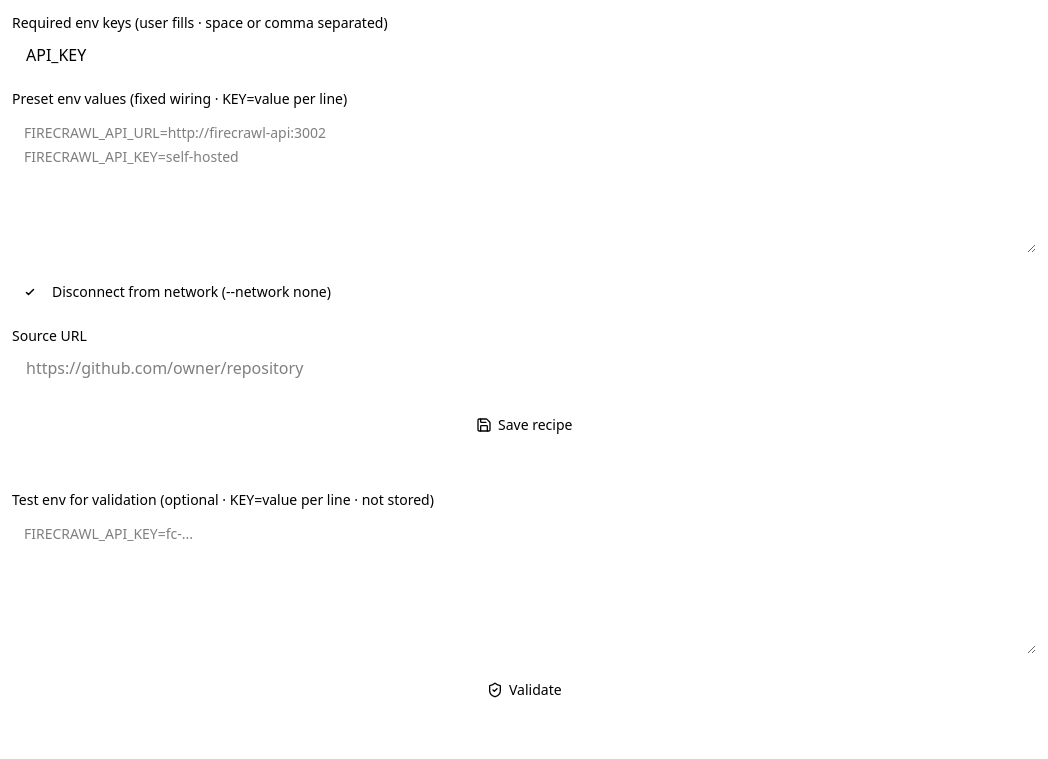
Test case: recipe validation freshness › invalidates previous validation feedback as soon as a recipe changes, then permits validation after a successful save
(page scrolled)
Step 1. Click the button "Validate" → x=524, y=691, box [12,671,1036,711]
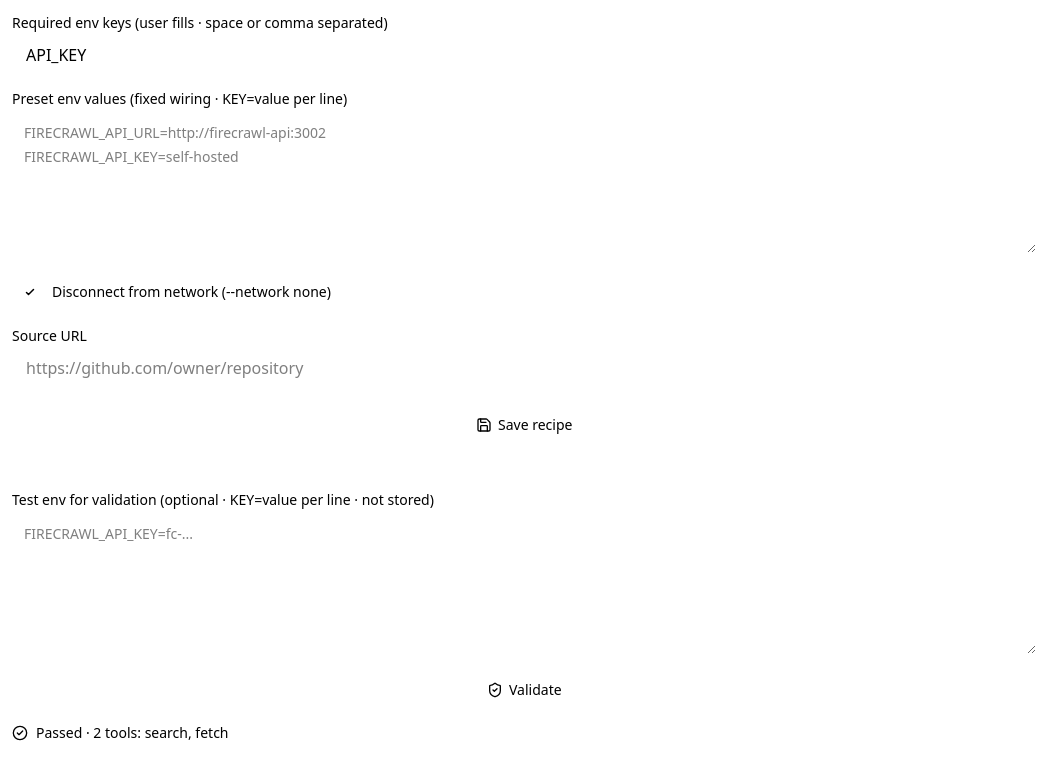
Expected: the text "Passed · 2 tools: search, fetch" is shown, [36,723,228,743]
Step 2. Type "https://github.com/acme/changed" into the field labelled "Source URL" → x=524, y=368, box [12,346,1036,390]
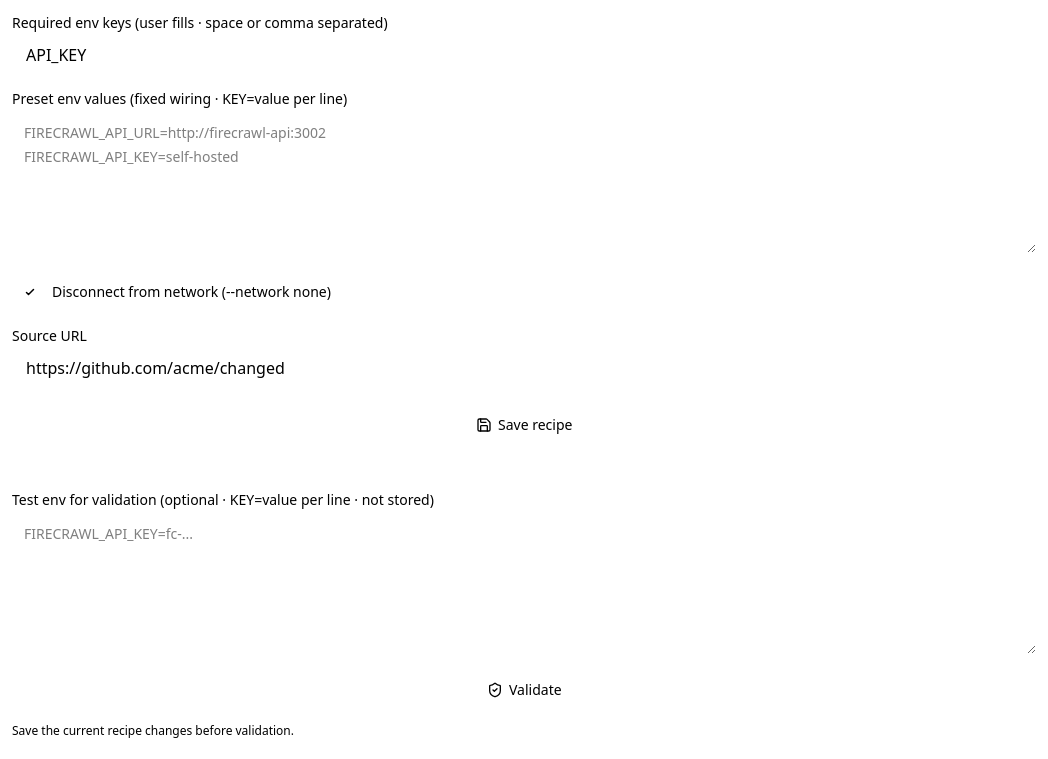
Expected: the button "Validate" is disabled, [12,671,1036,711]
Expected: the text "search, fetch" is gone
Step 3. Click the button "Save recipe" → x=524, y=426, box [12,406,1036,446]
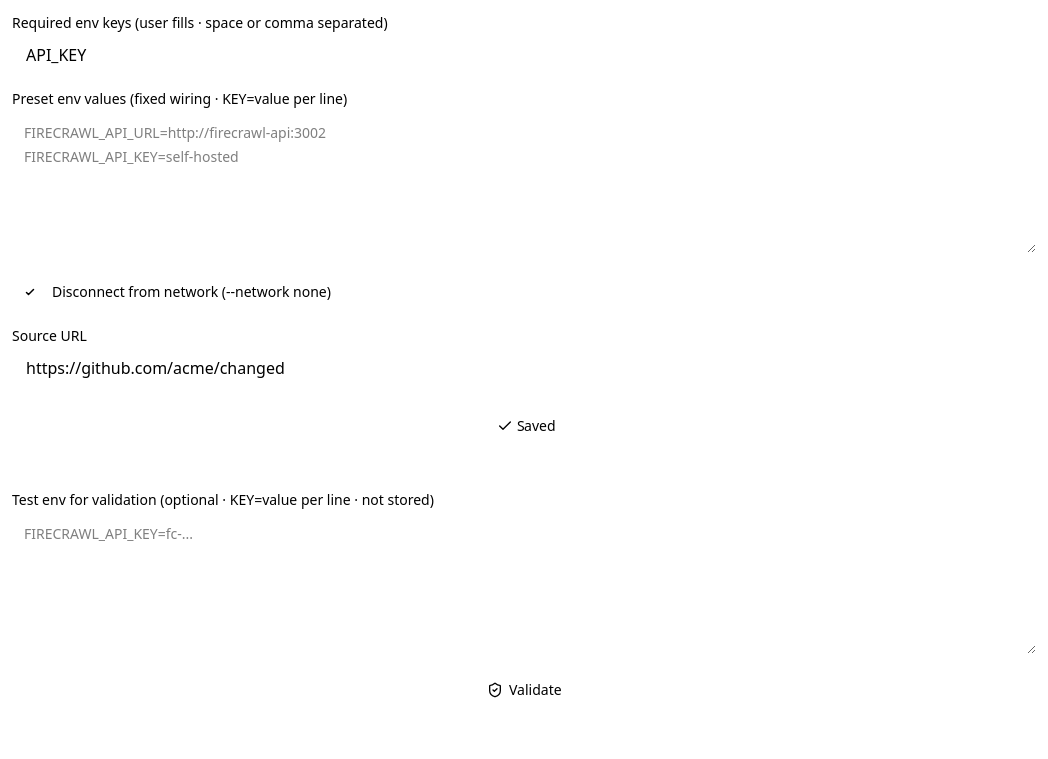
Expected: the text "search, fetch" is not shown
Step 4. Click the button "Validate" → x=524, y=691, box [12,671,1036,711]
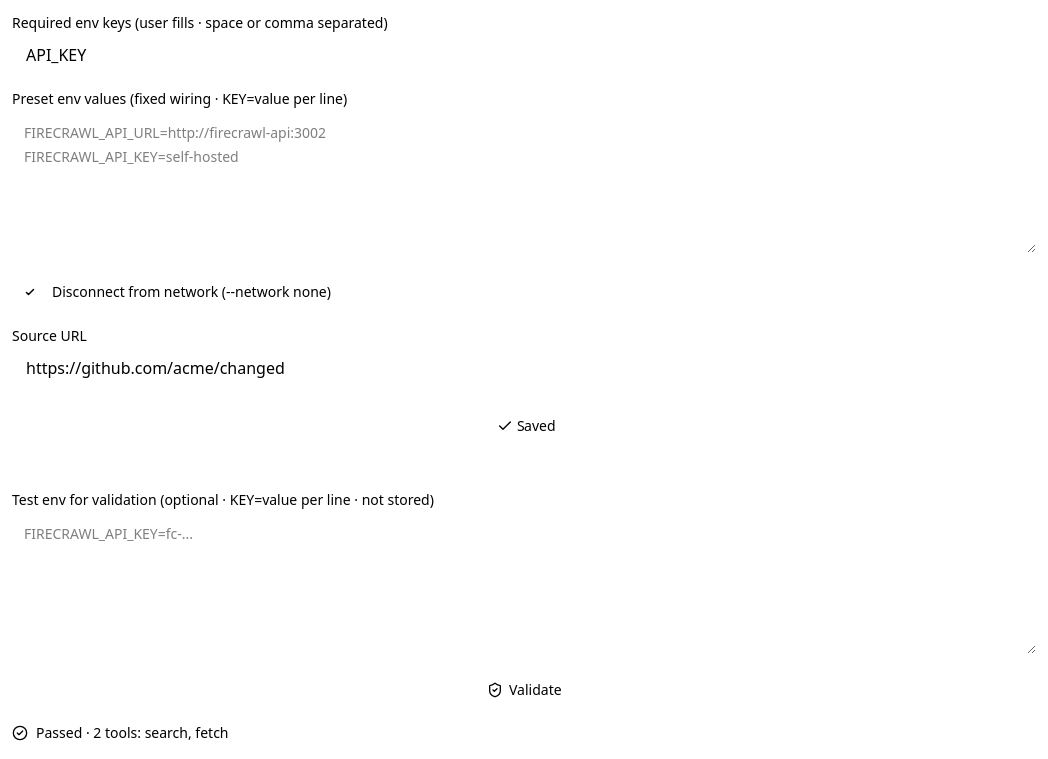
Expected: the text "Passed · 2 tools: search, fetch" is shown, [36,723,228,743]
